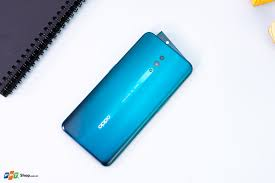oppo: (58, 29, 194, 168)
